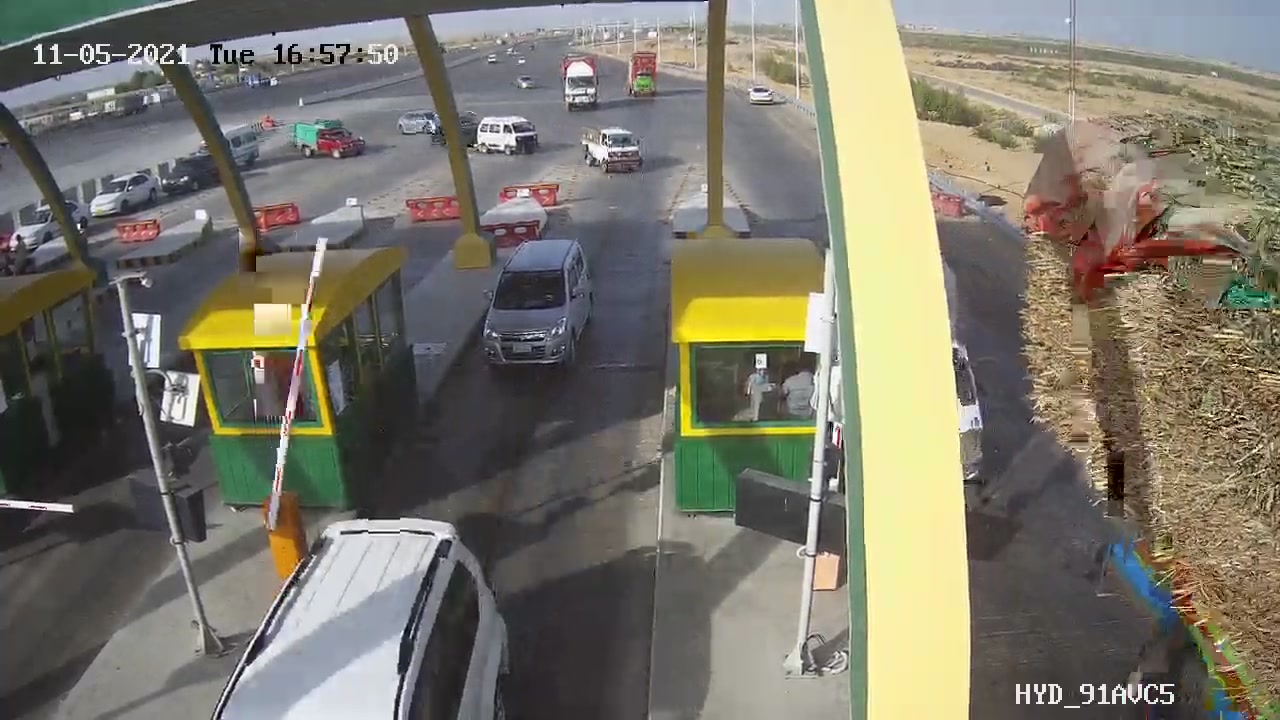F1: (462, 223, 614, 392)
